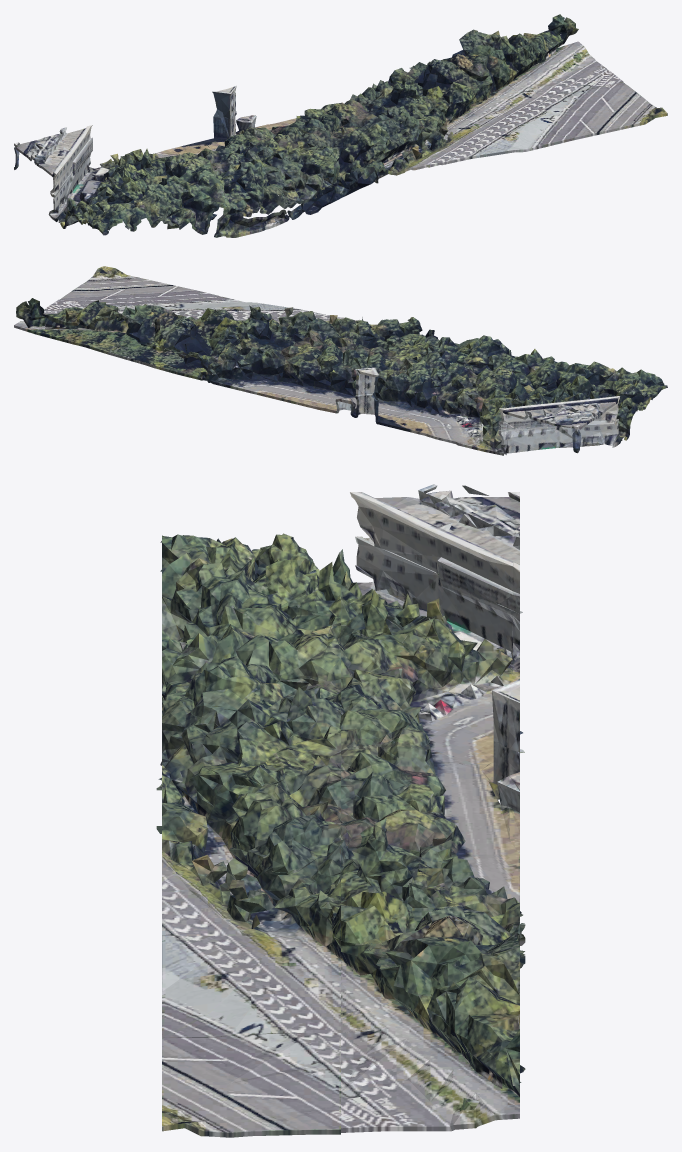
Rendered from Split22.fbx.
The picture shows the model from 3 angles, top to bottom: view 1: azimuth 30°, elevation 25°; view 2: azimuth 150°, elevation 25°; view 3: azimuth 270°, elevation 25°; orthographic projection. The views are drawn at different scales.
Parts seen in each view (by area): view 1: BuildingMesh-00080; view 2: BuildingMesh-00080; view 3: BuildingMesh-00080.
Boxes of the visible parts, left/top/right/bottom form: BuildingMesh-00080: left=14, top=14, right=667, bottom=237; BuildingMesh-00080: left=14, top=266, right=667, bottom=455; BuildingMesh-00080: left=156, top=484, right=525, bottom=1137.
Bounding box in the file's own units: 291 × 34.12 × 82.35.
5 materials, 5 textured.
